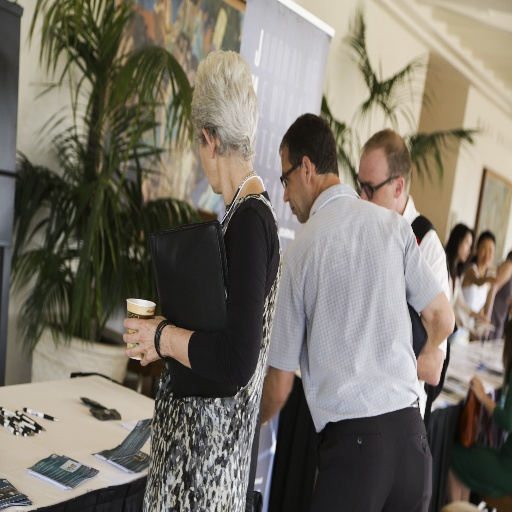hand: (121, 316, 172, 370), (468, 376, 487, 402)
